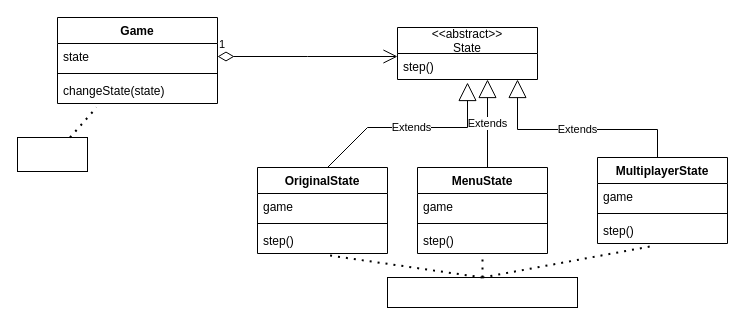
The diagram is 745 pixels wide and 325 high, and some of its shapes have lost their labels. Here are the shapes that lost their labels. From the top down, the centre of each, then its label:
the point at 52,154: state.step()
the point at 482,292: game.changeState(new state)
